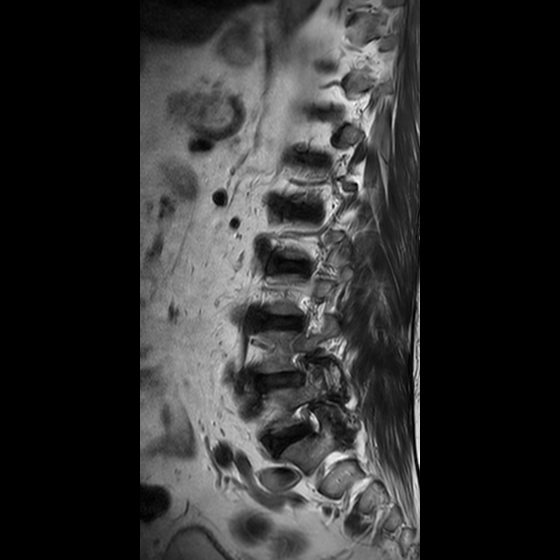LFS1: (286, 399, 332, 444)
LFS3: (279, 343, 326, 393)
